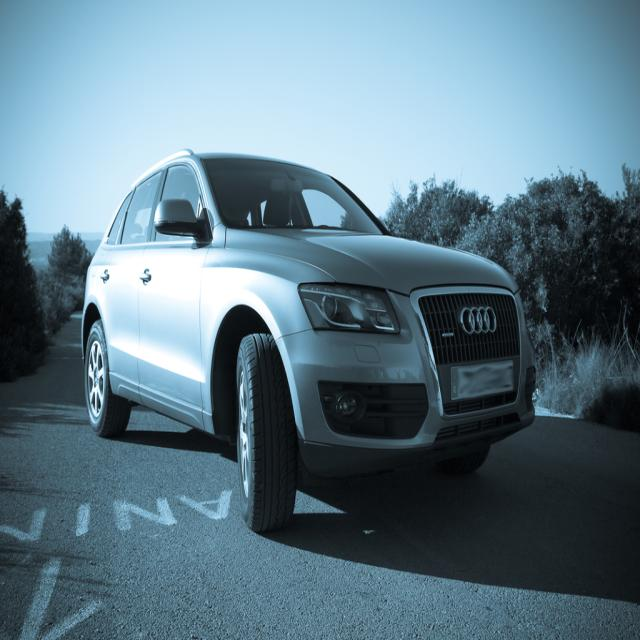car: (79, 145, 535, 532)
